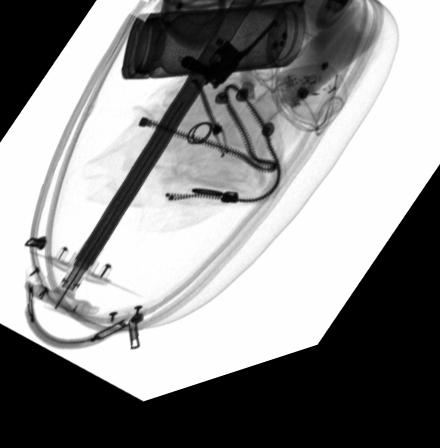Gun: (179, 37, 275, 103)
